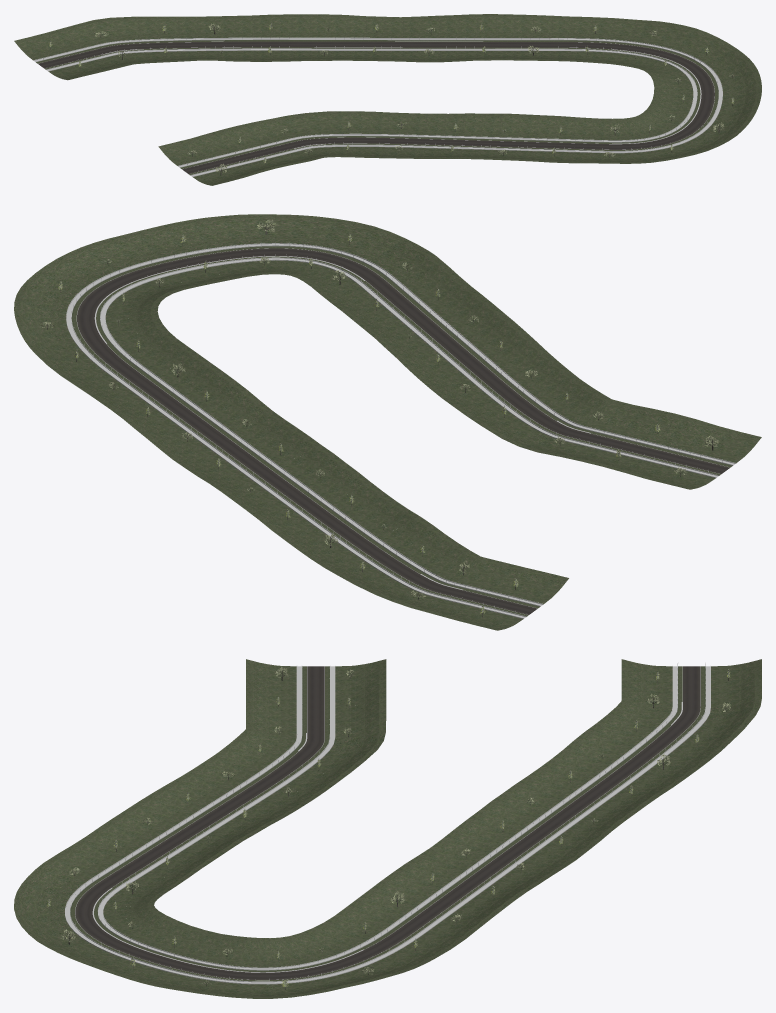
The picture shows the model from 3 angles, top to bottom: view 1: azimuth 30°, elevation 25°; view 2: azimuth 150°, elevation 25°; view 3: azimuth 270°, elevation 25°; orthographic projection. The views are drawn at different scales.
Parts seen in each view (by area): view 1: Grass, Track, Road, Trees; view 2: Grass, Road, Track, Trees; view 3: Grass, Road, Track, Trees.
Boxes of the visible parts, x1=… form: Grass: x1=14, y1=14, x2=761, y2=185; Track: x1=33, y1=37, x2=722, y2=176; Road: x1=38, y1=41, x2=714, y2=174; Trees: x1=49, y1=23, x2=734, y2=175; Grass: x1=14, y1=214, x2=761, y2=630; Road: x1=77, y1=248, x2=729, y2=614; Track: x1=66, y1=242, x2=735, y2=618; Trees: x1=39, y1=219, x2=719, y2=617; Grass: x1=14, y1=659, x2=761, y2=998; Road: x1=75, y1=666, x2=700, y2=979; Track: x1=65, y1=663, x2=710, y2=984; Trees: x1=47, y1=667, x2=730, y2=989.
Size of the model in its own units: 80190 by 1702 by 74636.
